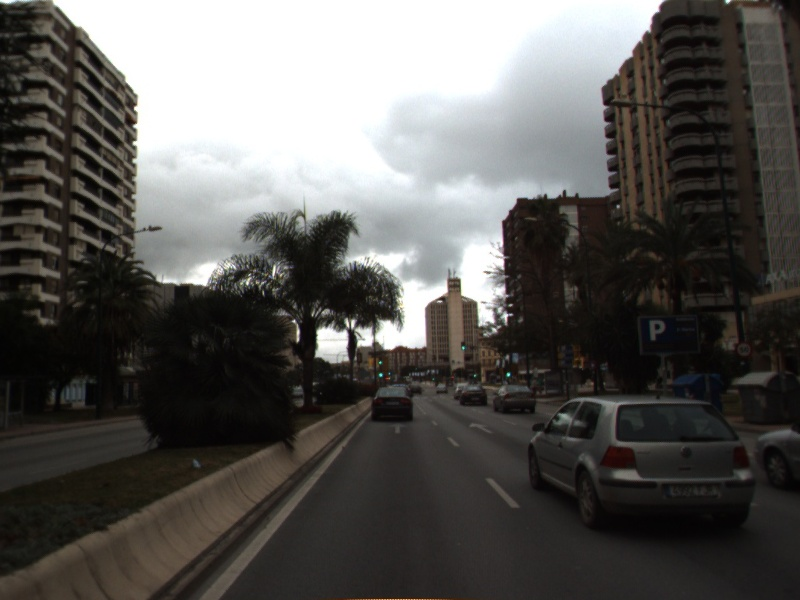STRAIGHT: (466, 420, 496, 436), (386, 421, 410, 435)
